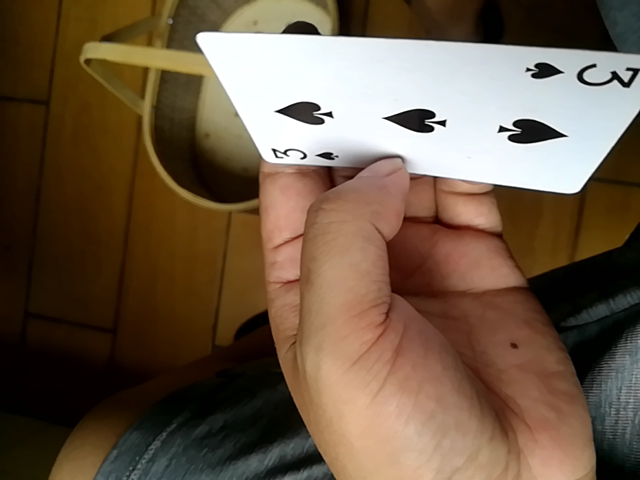ht 3: (199, 29, 633, 194)
